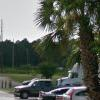Palm tree: (37, 4, 100, 89)
